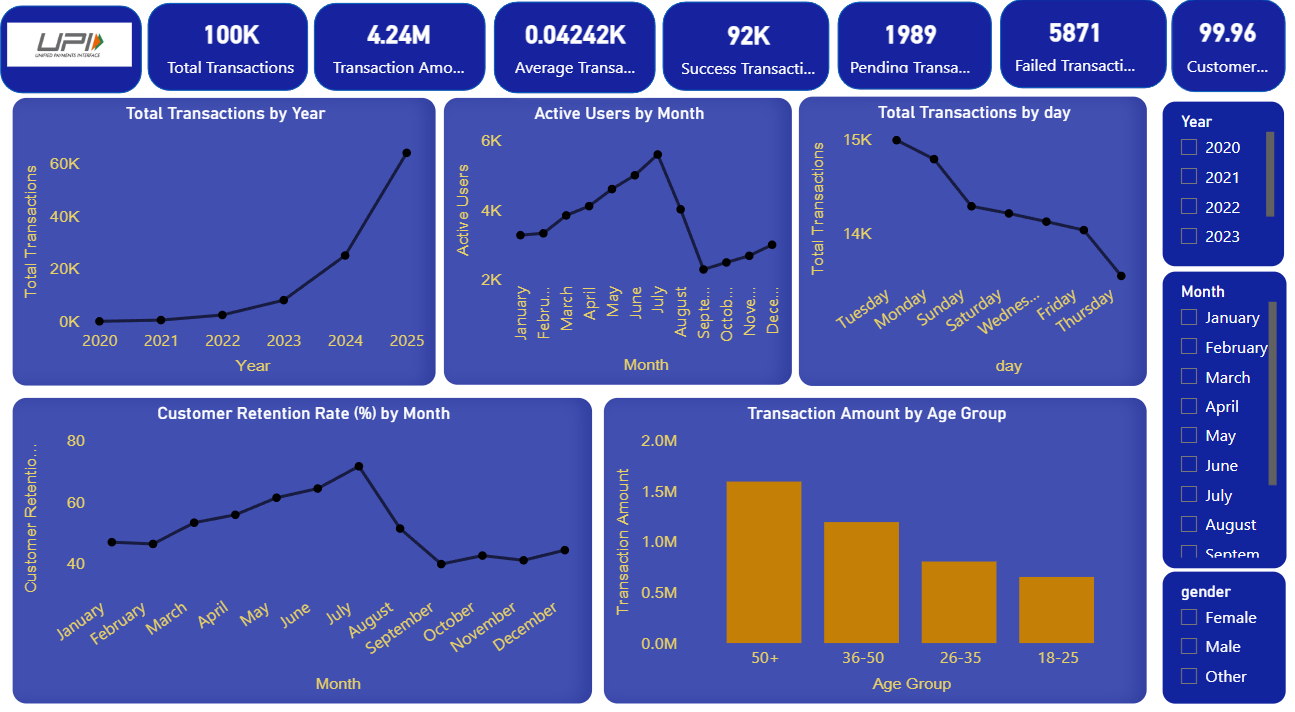

The dashboard page shown, as its layout file describes it:
{"tool":"powerbi","page":{"name":"Executive Dashboard-1","canvas":[1280,720],"ordinal":1},"visuals":[{"type":"shape","box":[981.6,0,181.6,105.5],"z":0,"group":"g3"},{"type":"group","id":"g1","title":"Group 2","box":[1149.7,0,130.1,109.2],"z":0},{"type":"shape","box":[1149.7,0,130.1,109.2],"z":0,"group":"g1"},{"type":"group","id":"g2","title":"Group 2","box":[0,6.4,157.1,104.3],"z":1000},{"type":"shape","box":[0,6.4,157.1,104.3],"z":1000,"group":"g2"},{"type":"shape","box":[822.1,2.5,169.3,104.3],"z":2000,"group":"g3"},{"type":"image","box":[874.9,398.8,61.4,63.8],"z":2000},{"type":"shape","box":[484.7,2.5,176.7,108],"z":3000,"group":"g4"},{"type":"clusteredColumnChart","fields":{"Category":["customer_master.Age Group"],"Y":["upi_transaction_history.Transaction Amount"]},"box":[600,398.8,536.2,303.1],"z":3000},{"type":"shape","box":[144.8,3.7,175.5,104.3],"z":4000,"group":"g4"},{"type":"lineChart","fields":{"Y":["upi_transaction_history.Total Transactions"],"Category":["upi_transaction_history.day"]},"box":[791.4,103.1,344.8,287.1],"z":4000},{"type":"lineChart","fields":{"Y":["upi_transaction_history.Total Transactions"],"Category":["upi_transaction_history.timestamp.Variation.Date Hierarchy.Year"]},"box":[19.6,108,418.4,282.2],"z":5000},{"type":"lineChart","fields":{"Y":["upi_transaction_history.Active Users"],"Category":["upi_transaction_history.Month Start.Variation.Date Hierarchy.Month"]},"box":[442.9,104.3,344.8,284.7],"z":6000},{"type":"slicer","fields":{"Values":["upi_transaction_history.Month Start.Variation.Date Hierarchy.Month"]},"box":[1148.5,274.8,123.9,294.5],"z":7000},{"type":"slicer","fields":{"Values":["customer_master.gender"]},"box":[1149.7,569.3,122.7,132.5],"z":8000},{"type":"slicer","fields":{"Values":["upi_transaction_history.Month Start.Variation.Date Hierarchy.Year"]},"box":[1148.5,108,122.7,164.4],"z":9000},{"type":"lineChart","fields":{"Y":["upi_transaction_history.Customer Retention Rate (%)"],"Category":["upi_transaction_history.timestamp.Variation.Date Hierarchy.Month"]},"box":[19.6,400,571.8,301.8],"z":11000},{"type":"group","id":"g3","title":"Group 2","box":[144.8,0,1115.9,110.4],"z":12000},{"type":"shape","box":[650.3,2.5,181.6,105.5],"z":12000,"group":"g4"},{"type":"image","box":[11,0,132.5,106.7],"z":13000},{"type":"shape","box":[308,3.7,186.5,104.3],"z":13000,"group":"g4"},{"type":"card","fields":{"Values":["upi_transaction_history.Total Transactions"]},"box":[168.1,17.2,135,73.6],"z":14000,"group":"g4"},{"type":"card","fields":{"Values":["upi_transaction_history.Average Transaction Value"]},"box":[506.8,17.2,133.7,73.6],"z":14001},{"type":"card","fields":{"Values":["upi_transaction_history.Total Transaction Amount"]},"box":[327.4,17.2,146,73.6],"z":15000,"group":"g4"},{"type":"card","fields":{"Values":["upi_transaction_history.Failure Count-"]},"box":[999.3,16.7,131.3,68.7],"z":16000,"group":"g4"},{"type":"card","fields":{"Values":["upi_transaction_history.Success Transactions"]},"box":[668.7,20.9,149.7,67.5],"z":17000,"group":"g4"},{"type":"card","fields":{"Values":["upi_transaction_history.Pending Transactions"]},"box":[836.8,22.1,131.3,63.8],"z":18000,"group":"g4"},{"type":"card","fields":{"Values":["upi_transaction_history.Customer Retention Rate (%)"]},"box":[1168.7,16.7,92,69.9],"z":25000,"group":"g4"},{"type":"group","id":"g4","title":"Group 1","box":[144.8,2.5,1115.9,108],"z":26001,"group":"g3"}]}

Visuals, with their boxes in screenshot pixels (x1, y1, x2, y2), scaled from the page's 1280x720 canvas onto the 1295x712 screenshot:
shape: {"x1": 993, "y1": 0, "x2": 1177, "y2": 104}
"Group 2" group: {"x1": 1163, "y1": 0, "x2": 1294, "y2": 108}
shape: {"x1": 1163, "y1": 0, "x2": 1294, "y2": 108}
"Group 2" group: {"x1": 0, "y1": 6, "x2": 159, "y2": 109}
shape: {"x1": 0, "y1": 6, "x2": 159, "y2": 109}
shape: {"x1": 832, "y1": 2, "x2": 1003, "y2": 106}
image: {"x1": 885, "y1": 394, "x2": 947, "y2": 457}
shape: {"x1": 490, "y1": 2, "x2": 669, "y2": 109}
clusteredColumnChart - customer_master.Age Group x upi_transaction_history.Transaction Amount: {"x1": 607, "y1": 394, "x2": 1150, "y2": 694}
shape: {"x1": 146, "y1": 4, "x2": 324, "y2": 107}
lineChart - upi_transaction_history.Total Transactions x upi_transaction_history.day: {"x1": 801, "y1": 102, "x2": 1150, "y2": 386}
lineChart - upi_transaction_history.Total Transactions x upi_transaction_history.timestamp.Variation.Date Hierarchy.Year: {"x1": 20, "y1": 107, "x2": 443, "y2": 386}
lineChart - upi_transaction_history.Active Users x upi_transaction_history.Month Start.Variation.Date Hierarchy.Month: {"x1": 448, "y1": 103, "x2": 797, "y2": 385}
slicer - upi_transaction_history.Month Start.Variation.Date Hierarchy.Month: {"x1": 1162, "y1": 272, "x2": 1287, "y2": 563}
slicer - customer_master.gender: {"x1": 1163, "y1": 563, "x2": 1287, "y2": 694}
slicer - upi_transaction_history.Month Start.Variation.Date Hierarchy.Year: {"x1": 1162, "y1": 107, "x2": 1286, "y2": 269}
lineChart - upi_transaction_history.Customer Retention Rate (%) x upi_transaction_history.timestamp.Variation.Date Hierarchy.Month: {"x1": 20, "y1": 396, "x2": 598, "y2": 694}
"Group 2" group: {"x1": 146, "y1": 0, "x2": 1275, "y2": 109}
shape: {"x1": 658, "y1": 2, "x2": 842, "y2": 107}
image: {"x1": 11, "y1": 0, "x2": 145, "y2": 106}
shape: {"x1": 312, "y1": 4, "x2": 500, "y2": 107}
card - upi_transaction_history.Total Transactions: {"x1": 170, "y1": 17, "x2": 307, "y2": 90}
card - upi_transaction_history.Average Transaction Value: {"x1": 513, "y1": 17, "x2": 648, "y2": 90}
card - upi_transaction_history.Total Transaction Amount: {"x1": 331, "y1": 17, "x2": 479, "y2": 90}
card - upi_transaction_history.Failure Count-: {"x1": 1011, "y1": 17, "x2": 1144, "y2": 84}
card - upi_transaction_history.Success Transactions: {"x1": 677, "y1": 21, "x2": 828, "y2": 87}
card - upi_transaction_history.Pending Transactions: {"x1": 847, "y1": 22, "x2": 979, "y2": 85}
card - upi_transaction_history.Customer Retention Rate (%): {"x1": 1182, "y1": 17, "x2": 1275, "y2": 86}
"Group 1" group: {"x1": 146, "y1": 2, "x2": 1275, "y2": 109}
